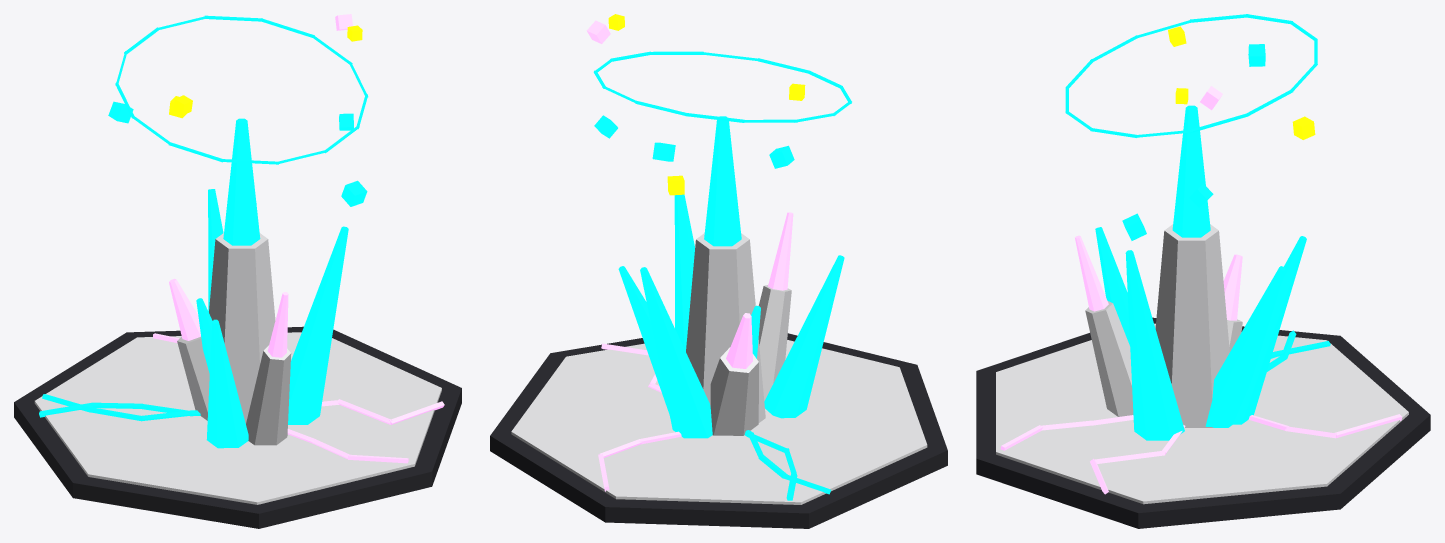
Rendered from DataNode.fbx.
3 renders of one model, left to right at view 1: azimuth 30°, elevation 25°; view 2: azimuth 150°, elevation 25°; view 3: azimuth 270°, elevation 25°, orthographic. The views are drawn at different scales.
Parts seen in each view (by area): view 1: Node_GroundTop, Node_Ground, Node_ShardCore0, Node_Shard7, Node_ShardCore6, Node_Shard5, Node_Shard0, Node_HaloRing, Node_ShardCore3, Node_Shard3, Node_Shard2, Node_Fissure1 (+5 smaller); view 2: Node_GroundTop, Node_Ground, Node_ShardCore0, Node_Shard2, Node_Shard5, Node_ShardCore3, Node_Shard0, Node_ShardCore6, Node_Shard7, Node_HaloRing, Node_Shard1, Node_Shard6 (+4 smaller); view 3: Node_GroundTop, Node_Ground, Node_ShardCore0, Node_Shard7, Node_Shard1, Node_ShardCore6, Node_Shard0, Node_Shard2, Node_HaloRing, Node_Shard5, Node_Shard6, Node_Fissure2 (+3 smaller).
Boxes of the visible parts, left/top/right/bottom form: Node_GroundTop: left=34, top=332, right=441, bottom=504; Node_Ground: left=14, top=326, right=461, bottom=528; Node_ShardCore0: left=209, top=233, right=275, bottom=423; Node_Shard7: left=288, top=226, right=348, bottom=424; Node_ShardCore6: left=246, top=345, right=291, bottom=445; Node_Shard5: left=206, top=319, right=248, bottom=448; Node_Shard0: left=223, top=118, right=260, bottom=245; Node_HaloRing: left=115, top=15, right=368, bottom=164; Node_ShardCore3: left=177, top=336, right=209, bottom=420; Node_Shard3: left=169, top=278, right=200, bottom=340; Node_Shard2: left=208, top=189, right=223, bottom=312; Node_Fissure1: left=39, top=402, right=200, bottom=417; Node_GroundTop: left=511, top=340, right=927, bottom=504; Node_Ground: left=490, top=333, right=947, bottom=528; Node_ShardCore0: left=686, top=233, right=765, bottom=422; Node_Shard2: left=640, top=267, right=712, bottom=438; Node_Shard5: left=764, top=255, right=844, bottom=418; Node_ShardCore3: left=710, top=347, right=758, bottom=435; Node_Shard0: left=704, top=116, right=741, bottom=246; Node_ShardCore6: left=758, top=285, right=791, bottom=400; Node_Shard7: left=674, top=194, right=694, bottom=351; Node_HaloRing: left=593, top=51, right=851, bottom=122; Node_Shard1: left=618, top=266, right=669, bottom=413; Node_Shard6: left=768, top=212, right=793, bottom=290; Node_GroundTop: left=996, top=323, right=1408, bottom=504; Node_Ground: left=976, top=317, right=1430, bottom=528; Node_ShardCore0: left=1155, top=224, right=1229, bottom=427; Node_Shard7: left=1125, top=250, right=1184, bottom=440; Node_Shard1: left=1205, top=266, right=1285, bottom=427; Node_ShardCore6: left=1085, top=301, right=1133, bottom=416; Node_Shard0: left=1172, top=105, right=1210, bottom=237; Node_Shard2: left=1233, top=236, right=1306, bottom=424; Node_HaloRing: left=1065, top=14, right=1317, bottom=137; Node_Shard5: left=1095, top=227, right=1130, bottom=346; Node_Shard6: left=1075, top=235, right=1108, bottom=311; Node_Fissure2: left=1248, top=414, right=1401, bottom=438.
Size of the model in its own units: 1.07 by 1.01 by 1.05.
